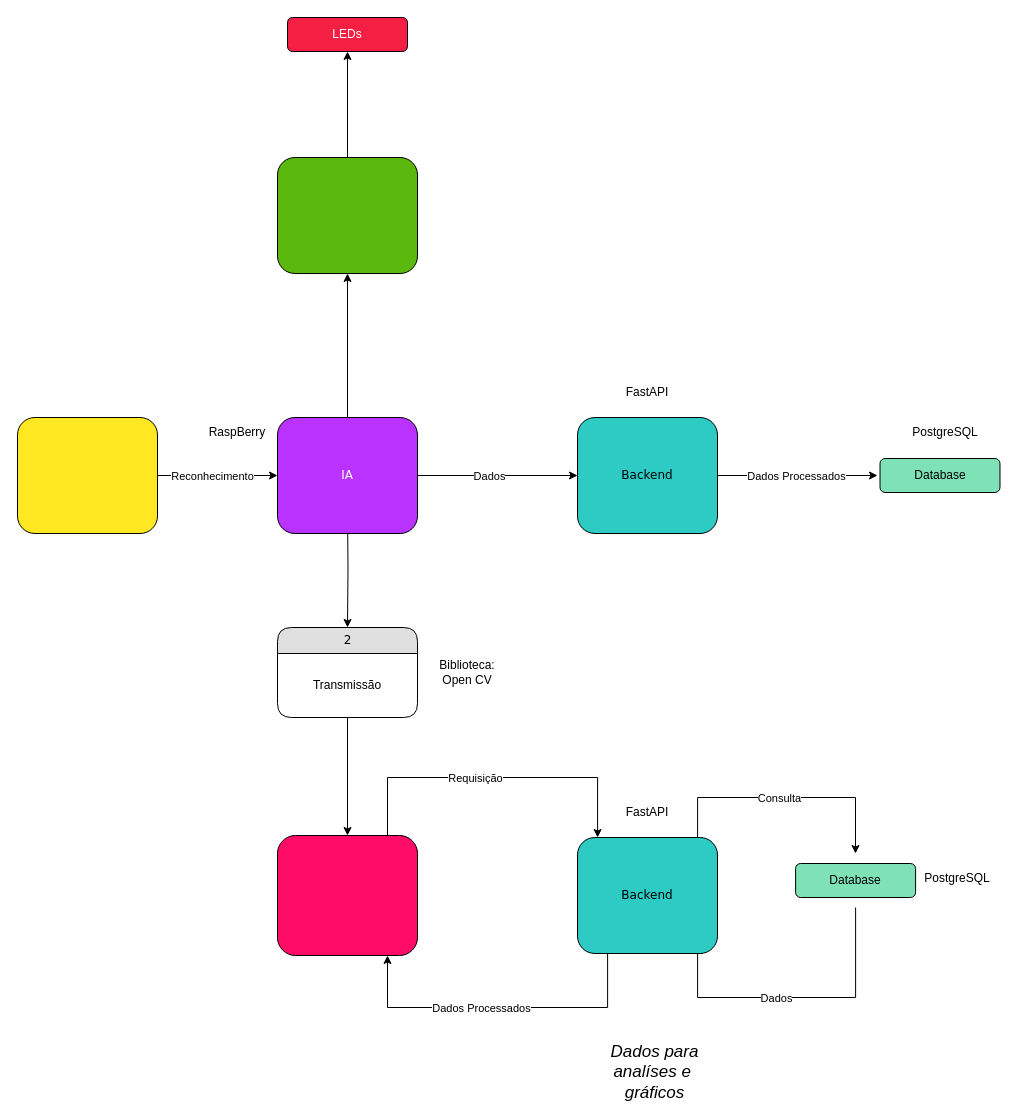
Image size: 1018x1120. Some labels were removed from this diagram. Here are the shapes that lost their labels. From the top down, the box of each, then its label:
(276, 156, 418, 274): Arduino
(16, 416, 158, 534): Camera
(276, 834, 418, 956): Site/App
